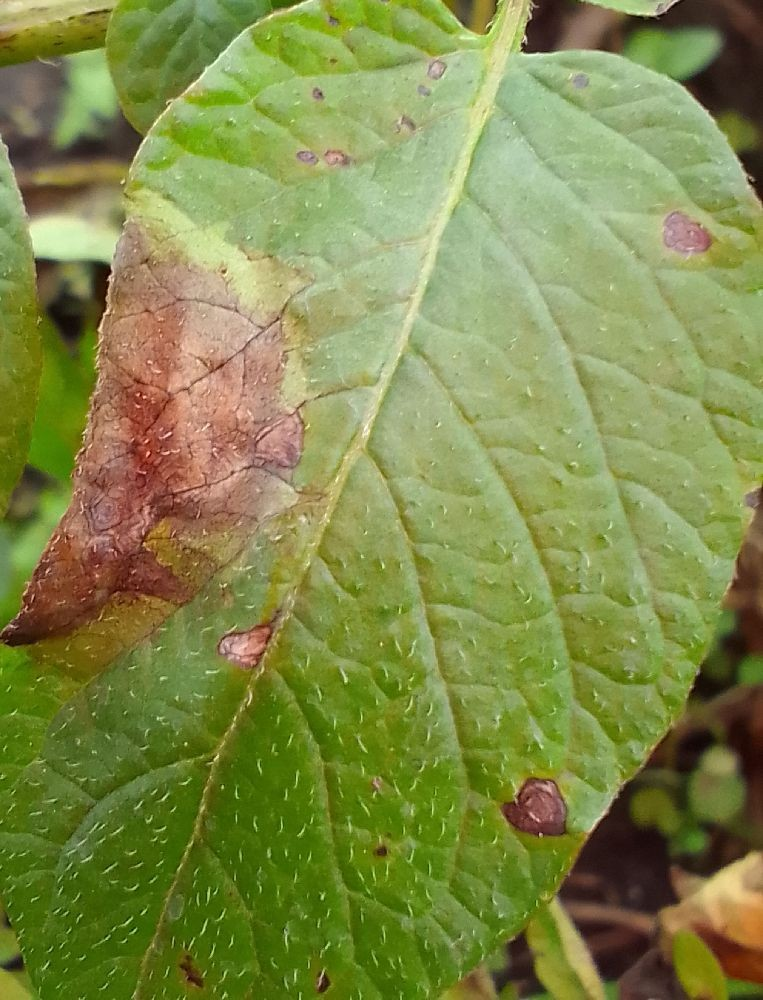late_blight: (0, 0, 368, 714), (371, 423, 763, 1000), (481, 0, 763, 242)
